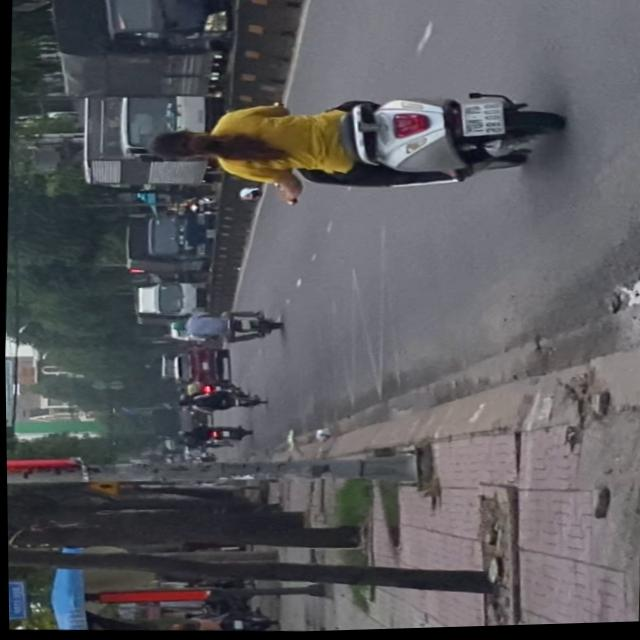licenseplate: (135, 79, 563, 208)
motorcyclist: (145, 127, 218, 164)
nohelmet: (459, 103, 500, 137)
